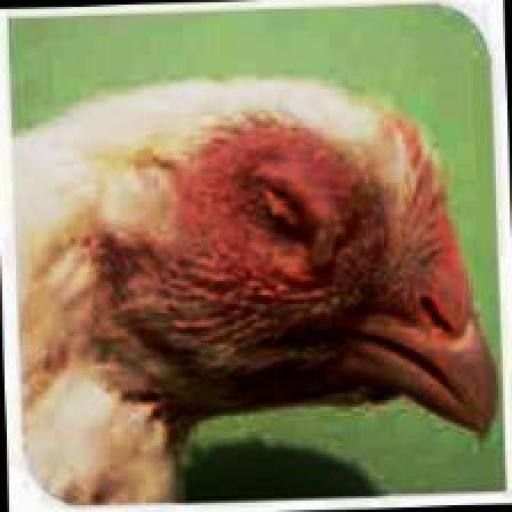disease: (217, 151, 338, 291)
